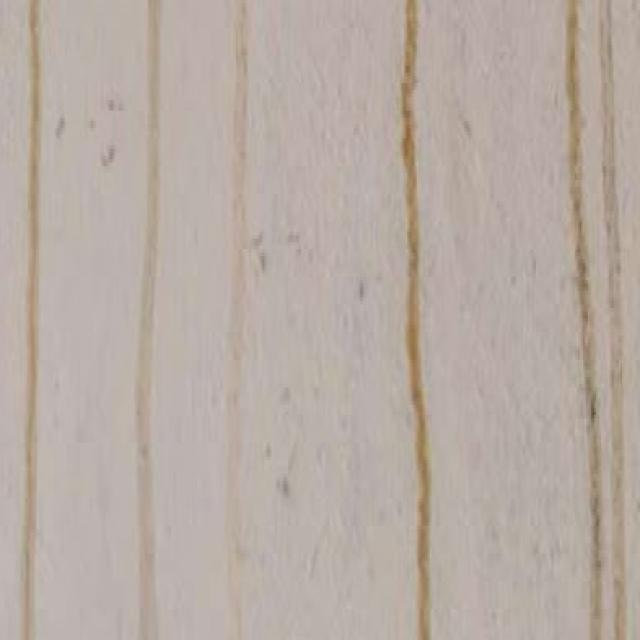wall_mold: (564, 0, 627, 640), (401, 1, 430, 640), (230, 0, 248, 640), (20, 1, 37, 640), (142, 0, 157, 640)
